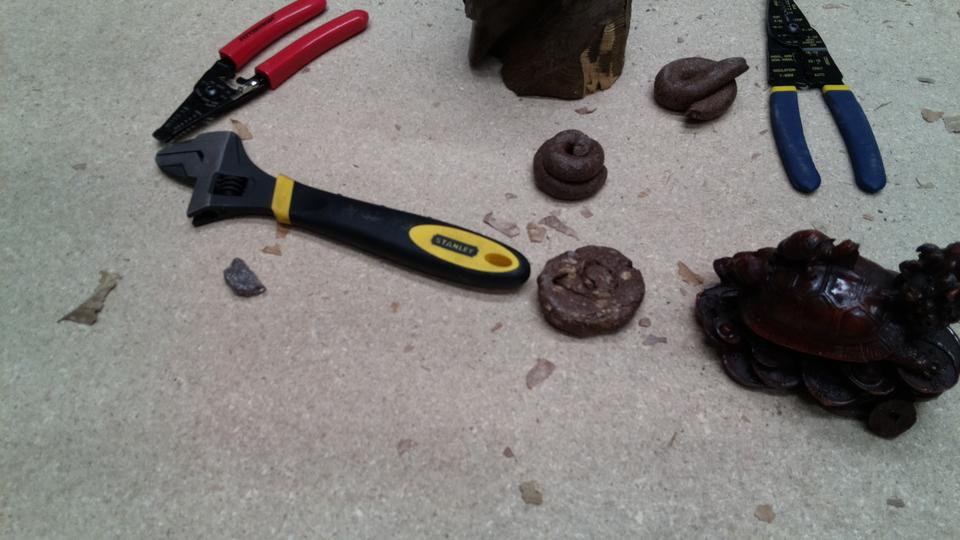poop: (534, 242, 646, 343), (652, 51, 751, 126), (529, 126, 609, 206)
